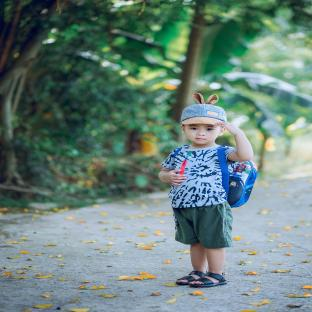Human: (159, 93, 253, 287)
